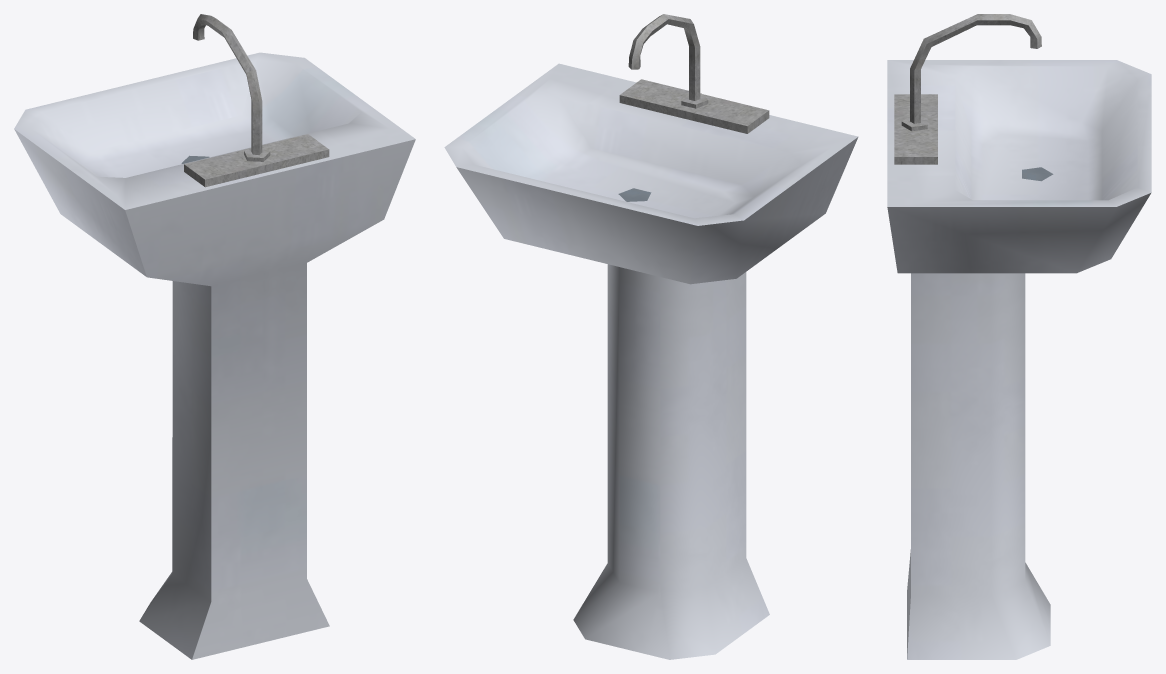
The model's file is Washbasin_06.glb.
The picture shows the model from 3 angles, left to right: view 1: azimuth 30°, elevation 25°; view 2: azimuth 150°, elevation 25°; view 3: azimuth 270°, elevation 25°; orthographic projection. The views are drawn at different scales.
Visible parts, largest first — view 1: Washbasin_06; view 2: Washbasin_06; view 3: Washbasin_06.
Part boxes in pixels (left/top/right/bottom): Washbasin_06: left=14, top=14, right=415, bottom=659; Washbasin_06: left=444, top=14, right=858, bottom=659; Washbasin_06: left=887, top=14, right=1151, bottom=659.
Size of the model in its own units: 0.6024 by 1.17 by 0.4586.
3 materials, 3 textured.
